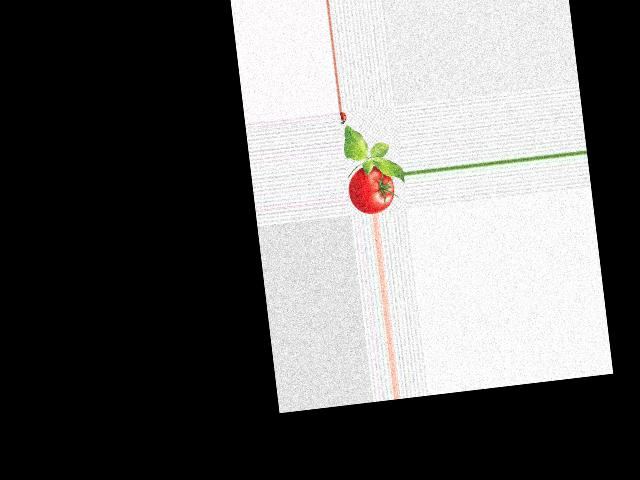tomato: (345, 163, 396, 216)
